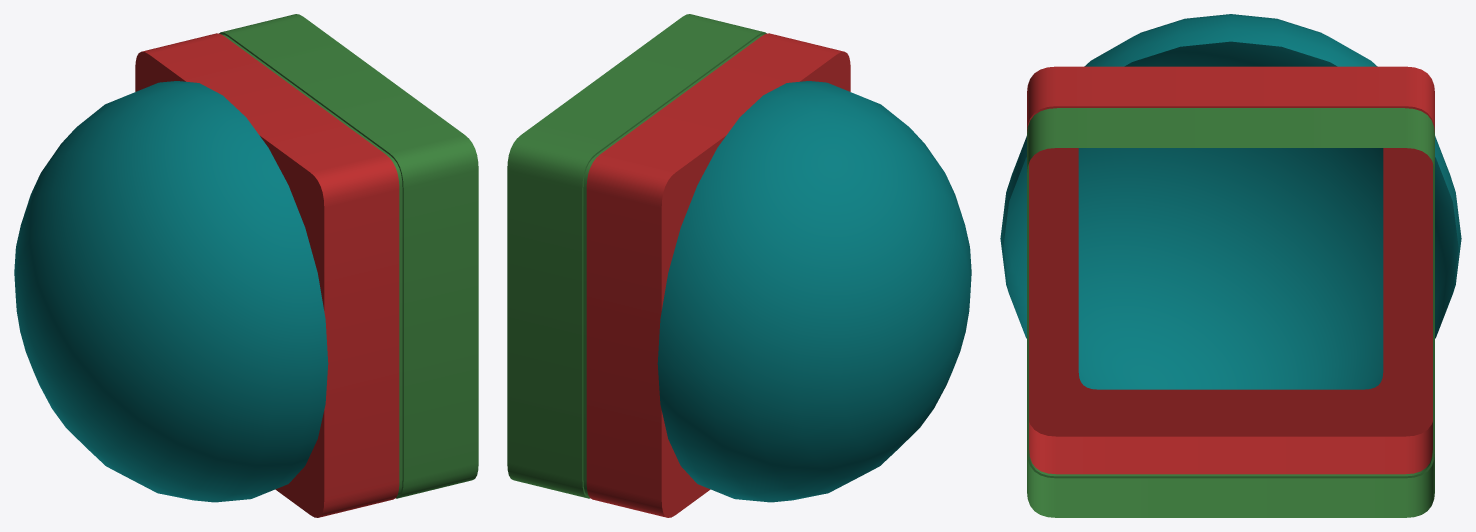
Rendered from SM_Gate_Button.fbx.
The picture shows the model from 3 angles, left to right: view 1: azimuth 30°, elevation 25°; view 2: azimuth 150°, elevation 25°; view 3: azimuth 270°, elevation 25°; orthographic projection. The views are drawn at different scales.
Visible parts, largest first — view 1: SM_Gate_Button; view 2: SM_Gate_Button; view 3: SM_Gate_Button.
Boxes of the visible parts, <box> form: SM_Gate_Button: <box>14,14,478,517</box>; SM_Gate_Button: <box>507,14,971,517</box>; SM_Gate_Button: <box>1000,14,1461,517</box>.
Bounding box in the file's own units: 9.81 × 10.73 × 10.73.
